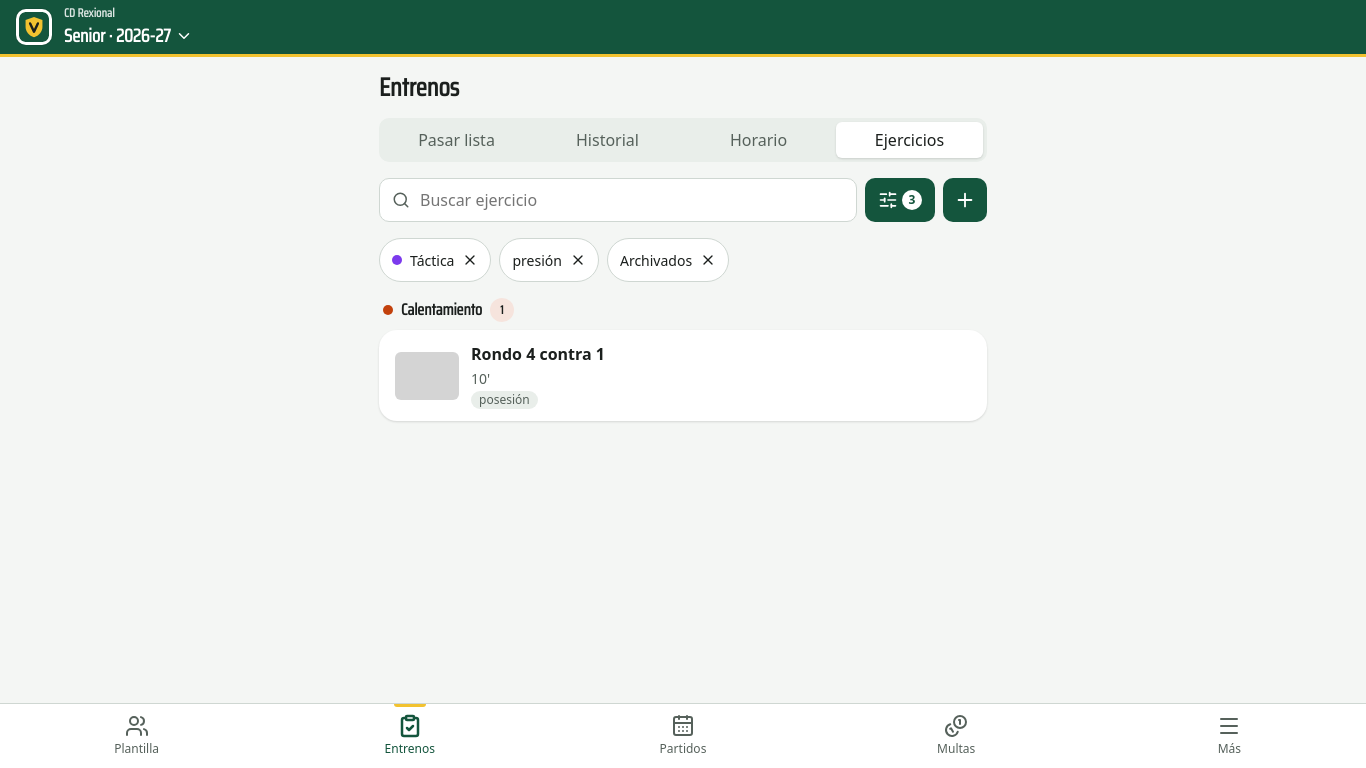
Test: lista de ejercicios › los filtros se leen de la dirección, se ven puestos y se quitan uno a uno o todos
Check: the button named "Nuevo ejercicio" is shown, box [943,178,987,222]
Check: the button named "Filtros (3)" is shown, box [865,178,935,222]
Click the button with aria-label "Quitar el filtro Táctica" at (435, 260), box [379,238,492,282]
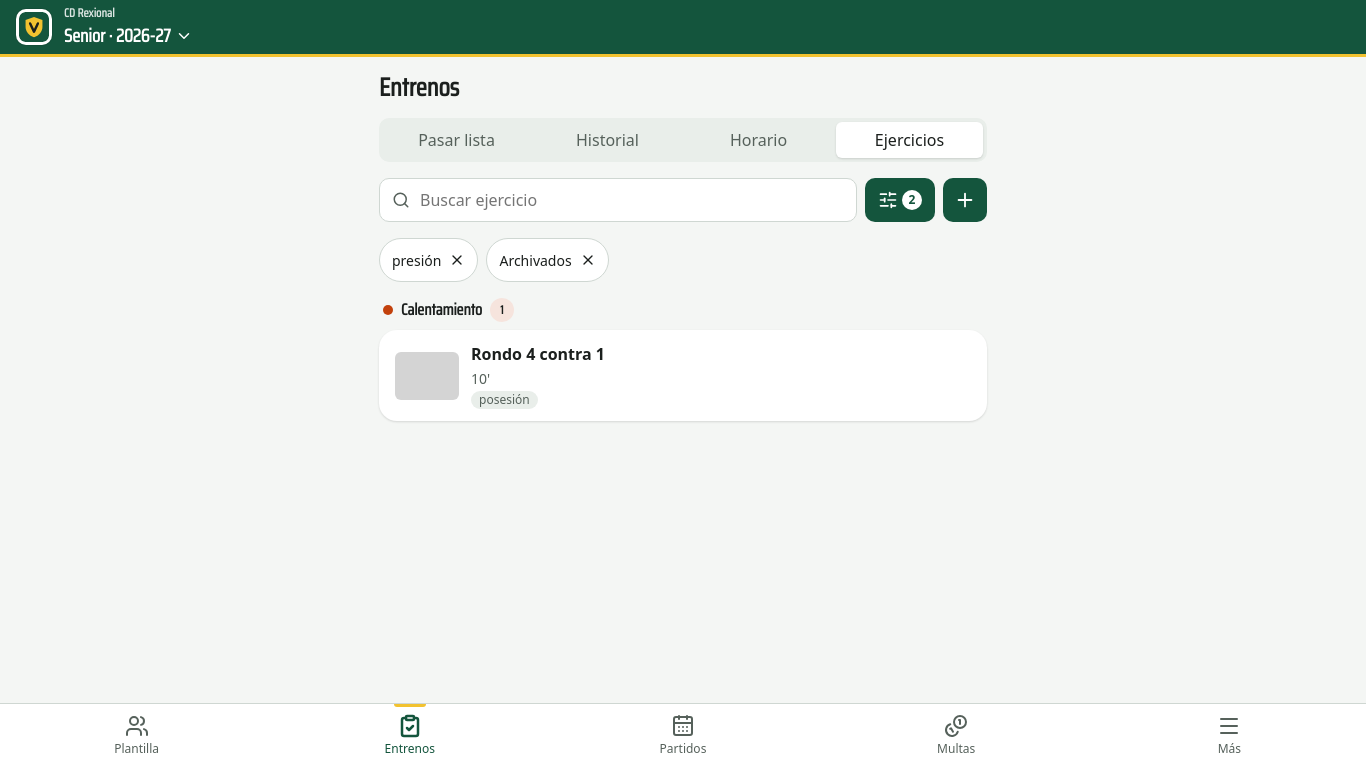
Click the button named "Filtros (2)" at (900, 200), box [865,178,935,222]
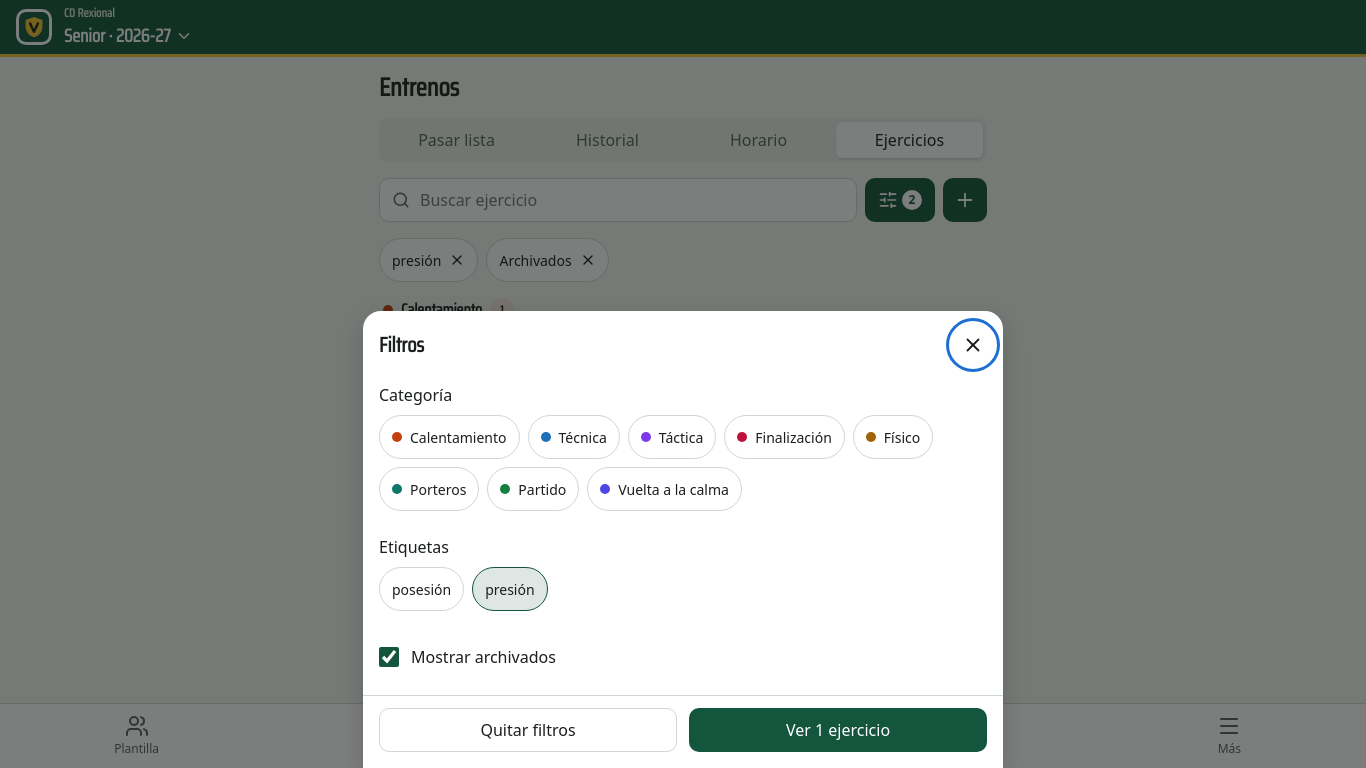
Check: the switch labelled "Mostrar archivados" is checked, box [379,647,399,667]
Click the button "Quitar filtros" at (528, 730), box [379,708,677,752]
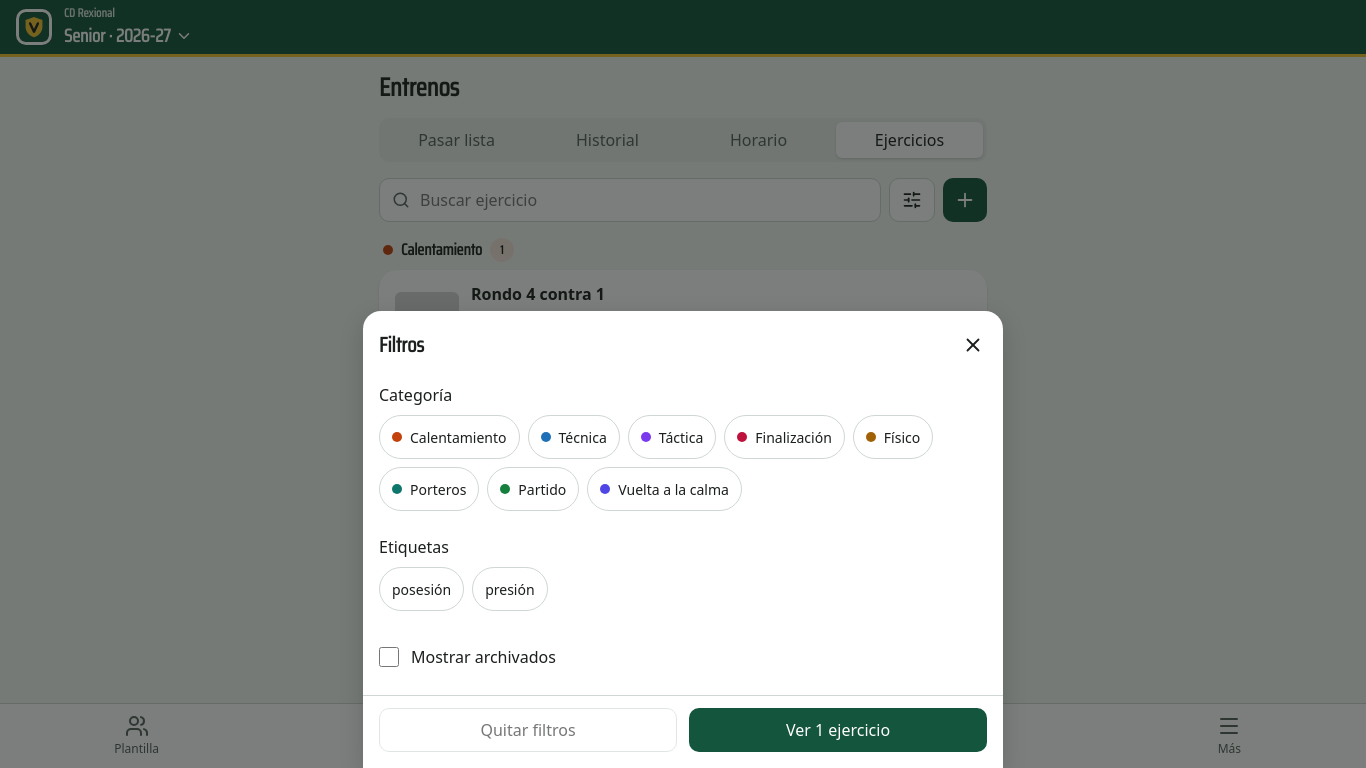
Check: the button named "Filtros" is shown, box [889,178,935,222]
Check: the button "Quitar filtros" is disabled, box [379,708,677,752]
